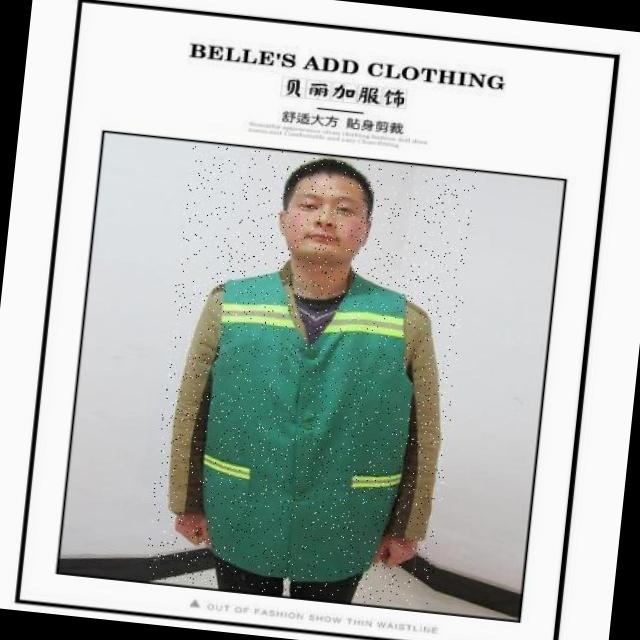no-helmet: (248, 146, 390, 292)
vest: (188, 261, 429, 589)
